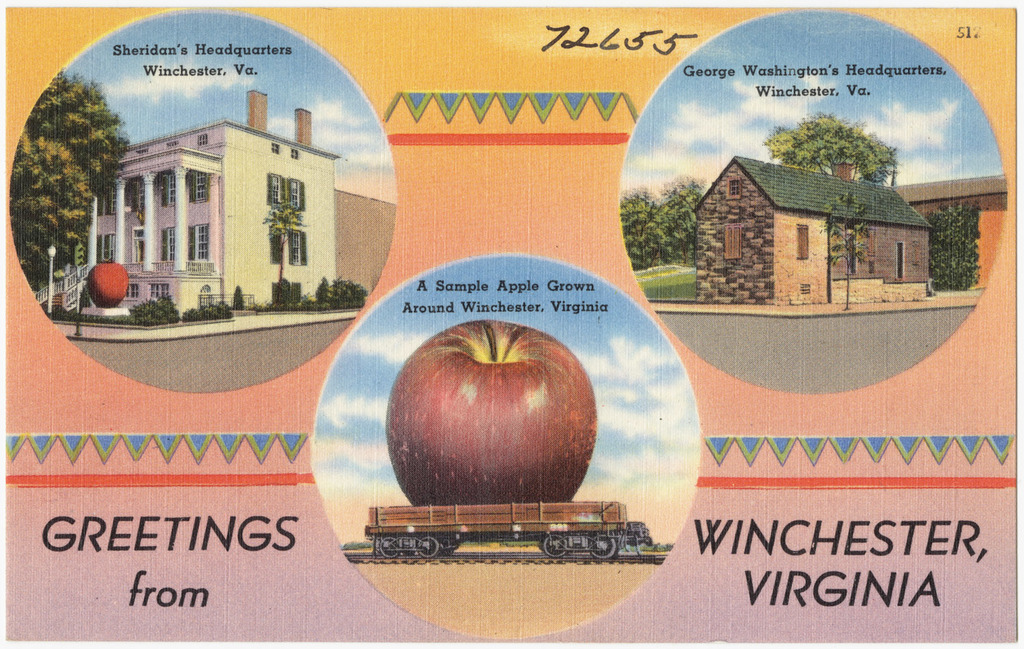Apple: (380, 329, 596, 526)
